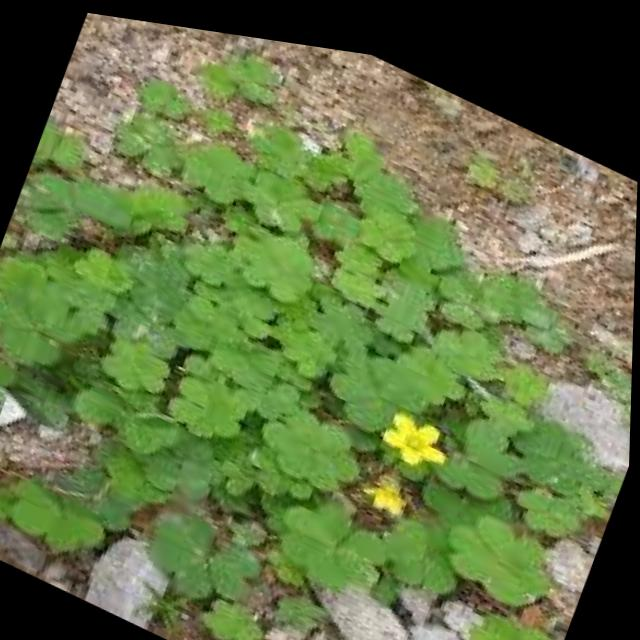Flower: (376, 382, 469, 473), (355, 455, 427, 519)
